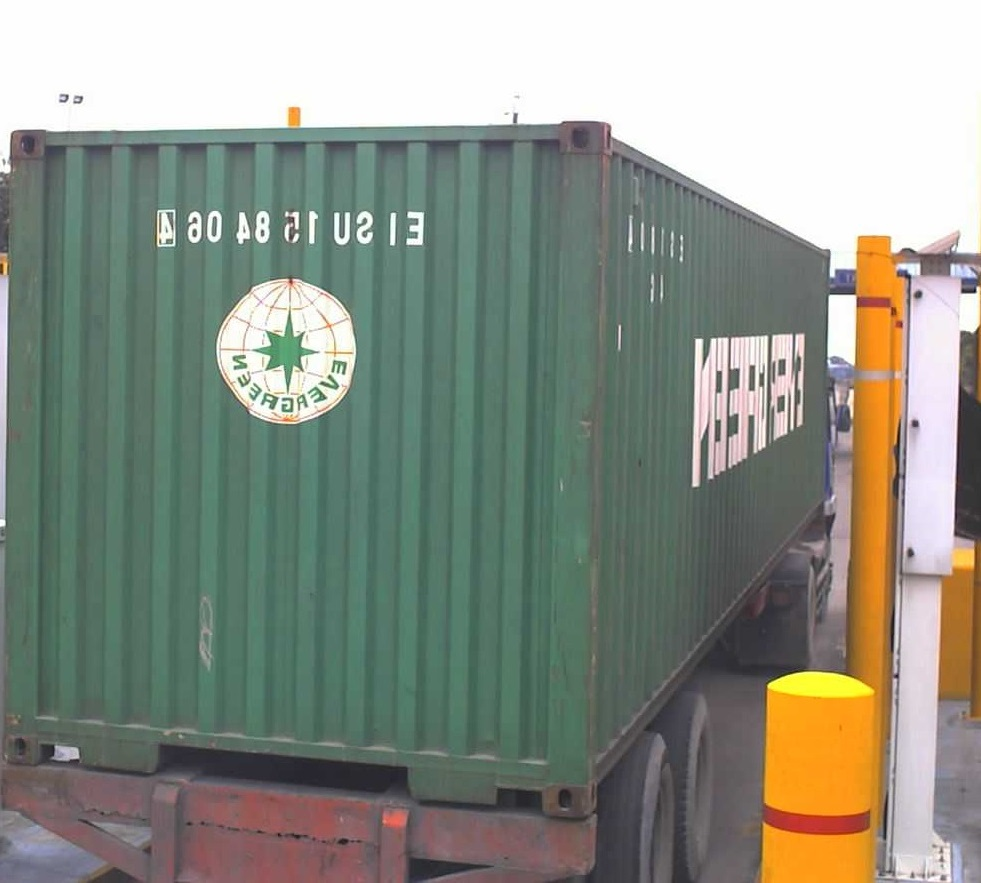container_no_door: (7, 130, 600, 823)
